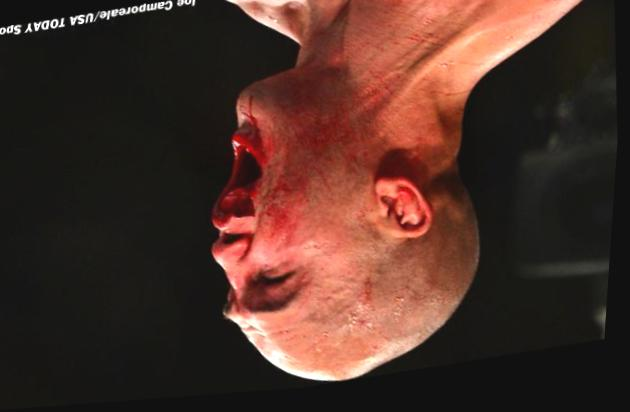Fire: (352, 0, 575, 109), (215, 73, 319, 280)
